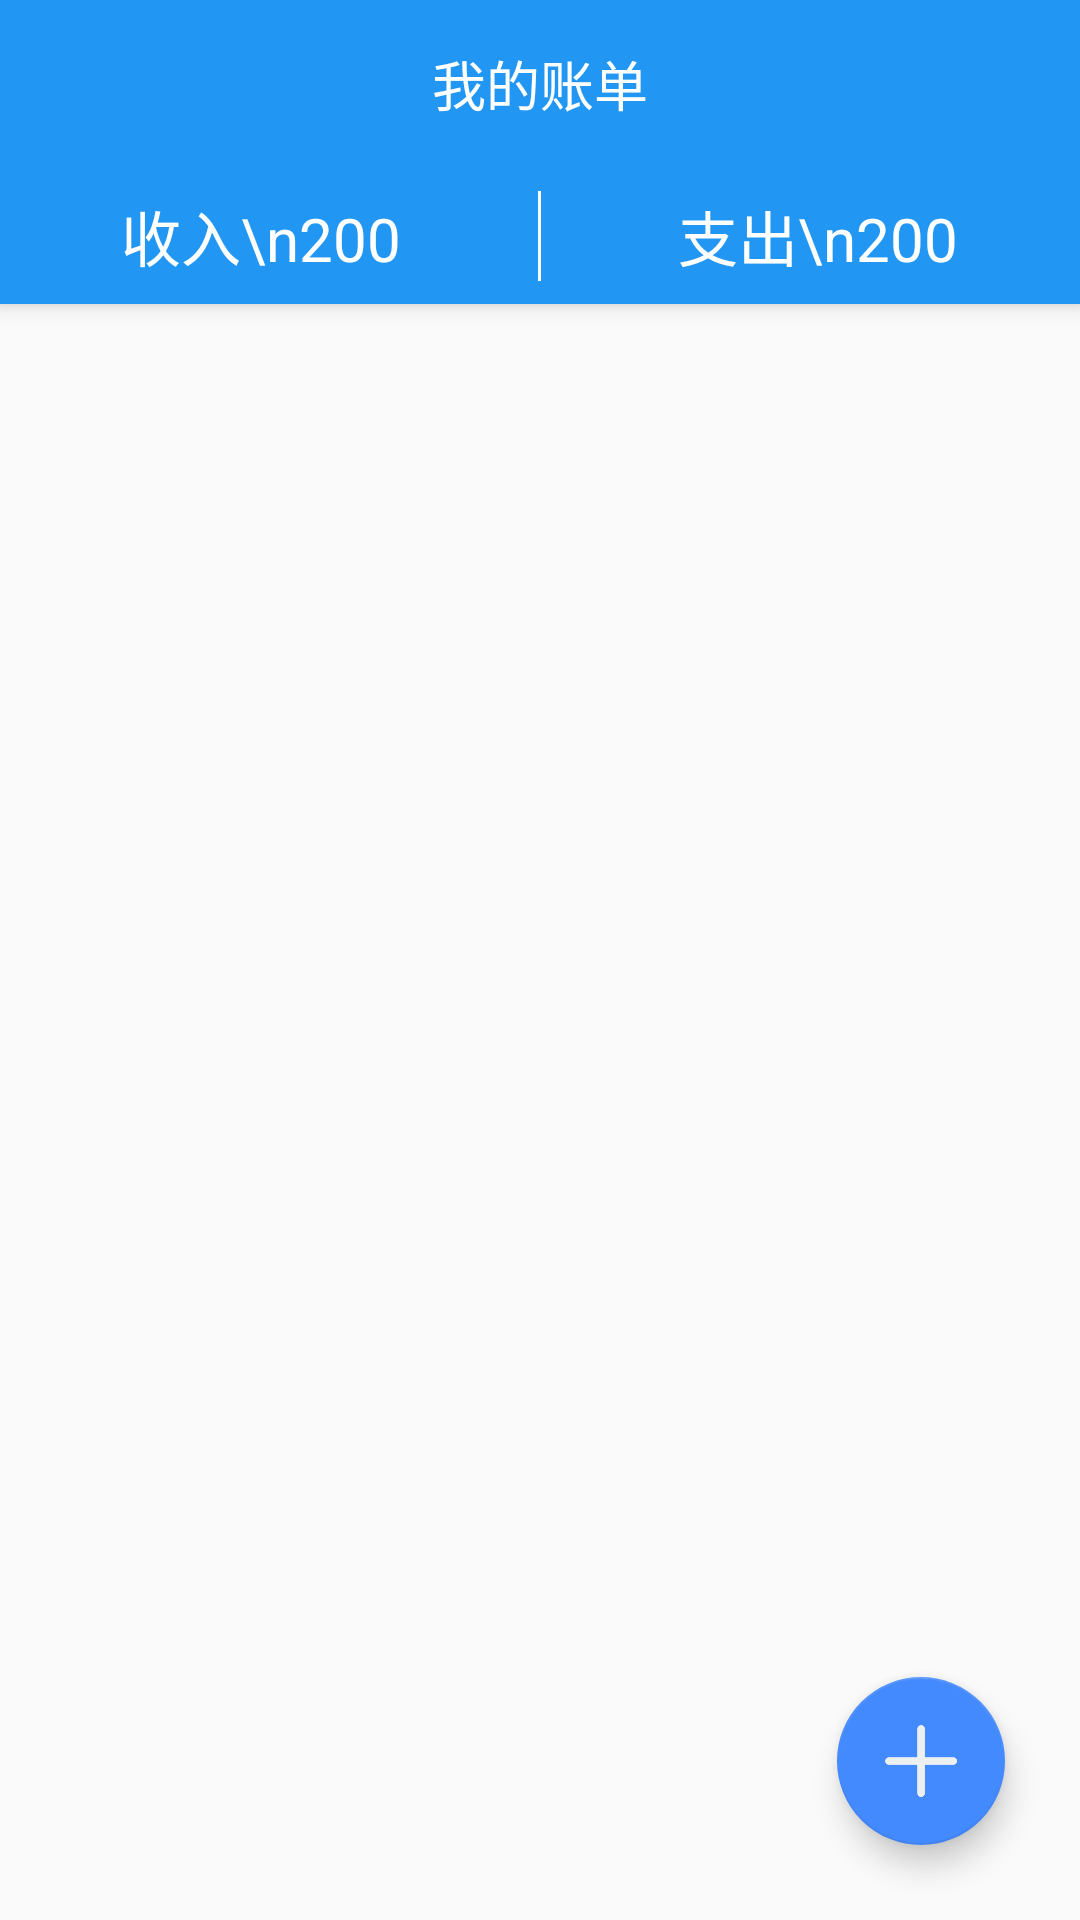

Screen size 1080×1920. Icon name, then its box in pixels as (x1, y1, x2, y2):
add: (837, 1677, 1005, 1845)
